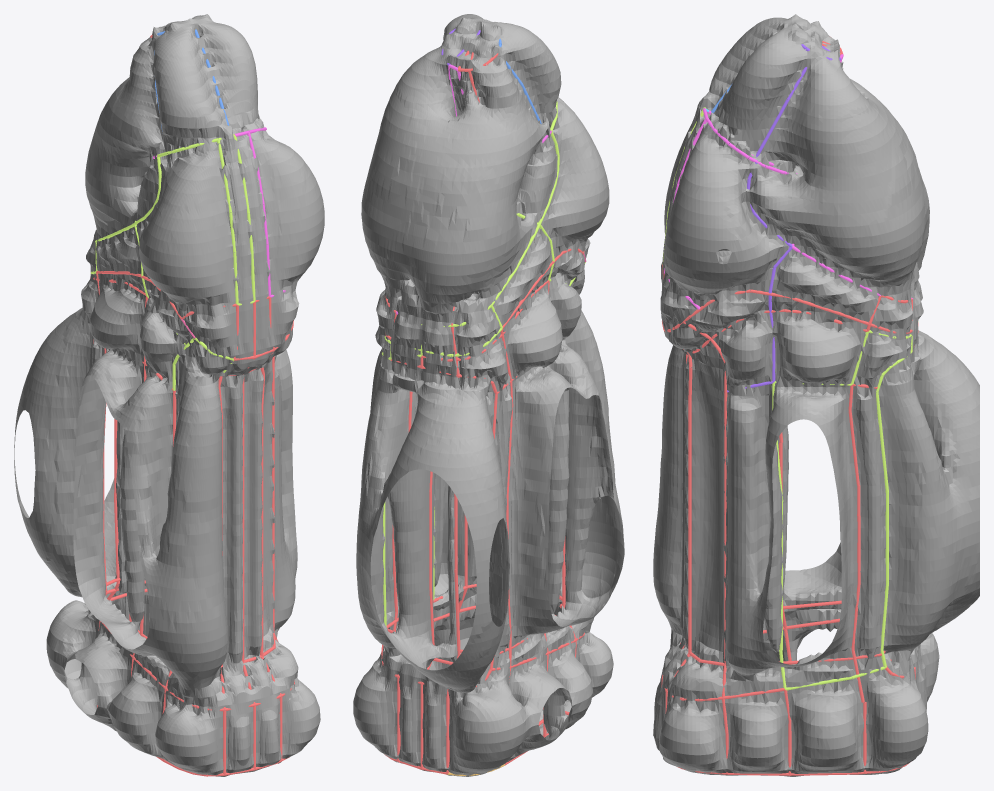
The model's file is flowrep_bottle.gltf.
The picture shows the model from 3 angles, left to right: view 1: azimuth 30°, elevation 25°; view 2: azimuth 150°, elevation 25°; view 3: azimuth 270°, elevation 25°; orthographic projection. The views are drawn at different scales.
Bounding box in the file's own units: 0.2576 × 0.9556 × 0.3879.
